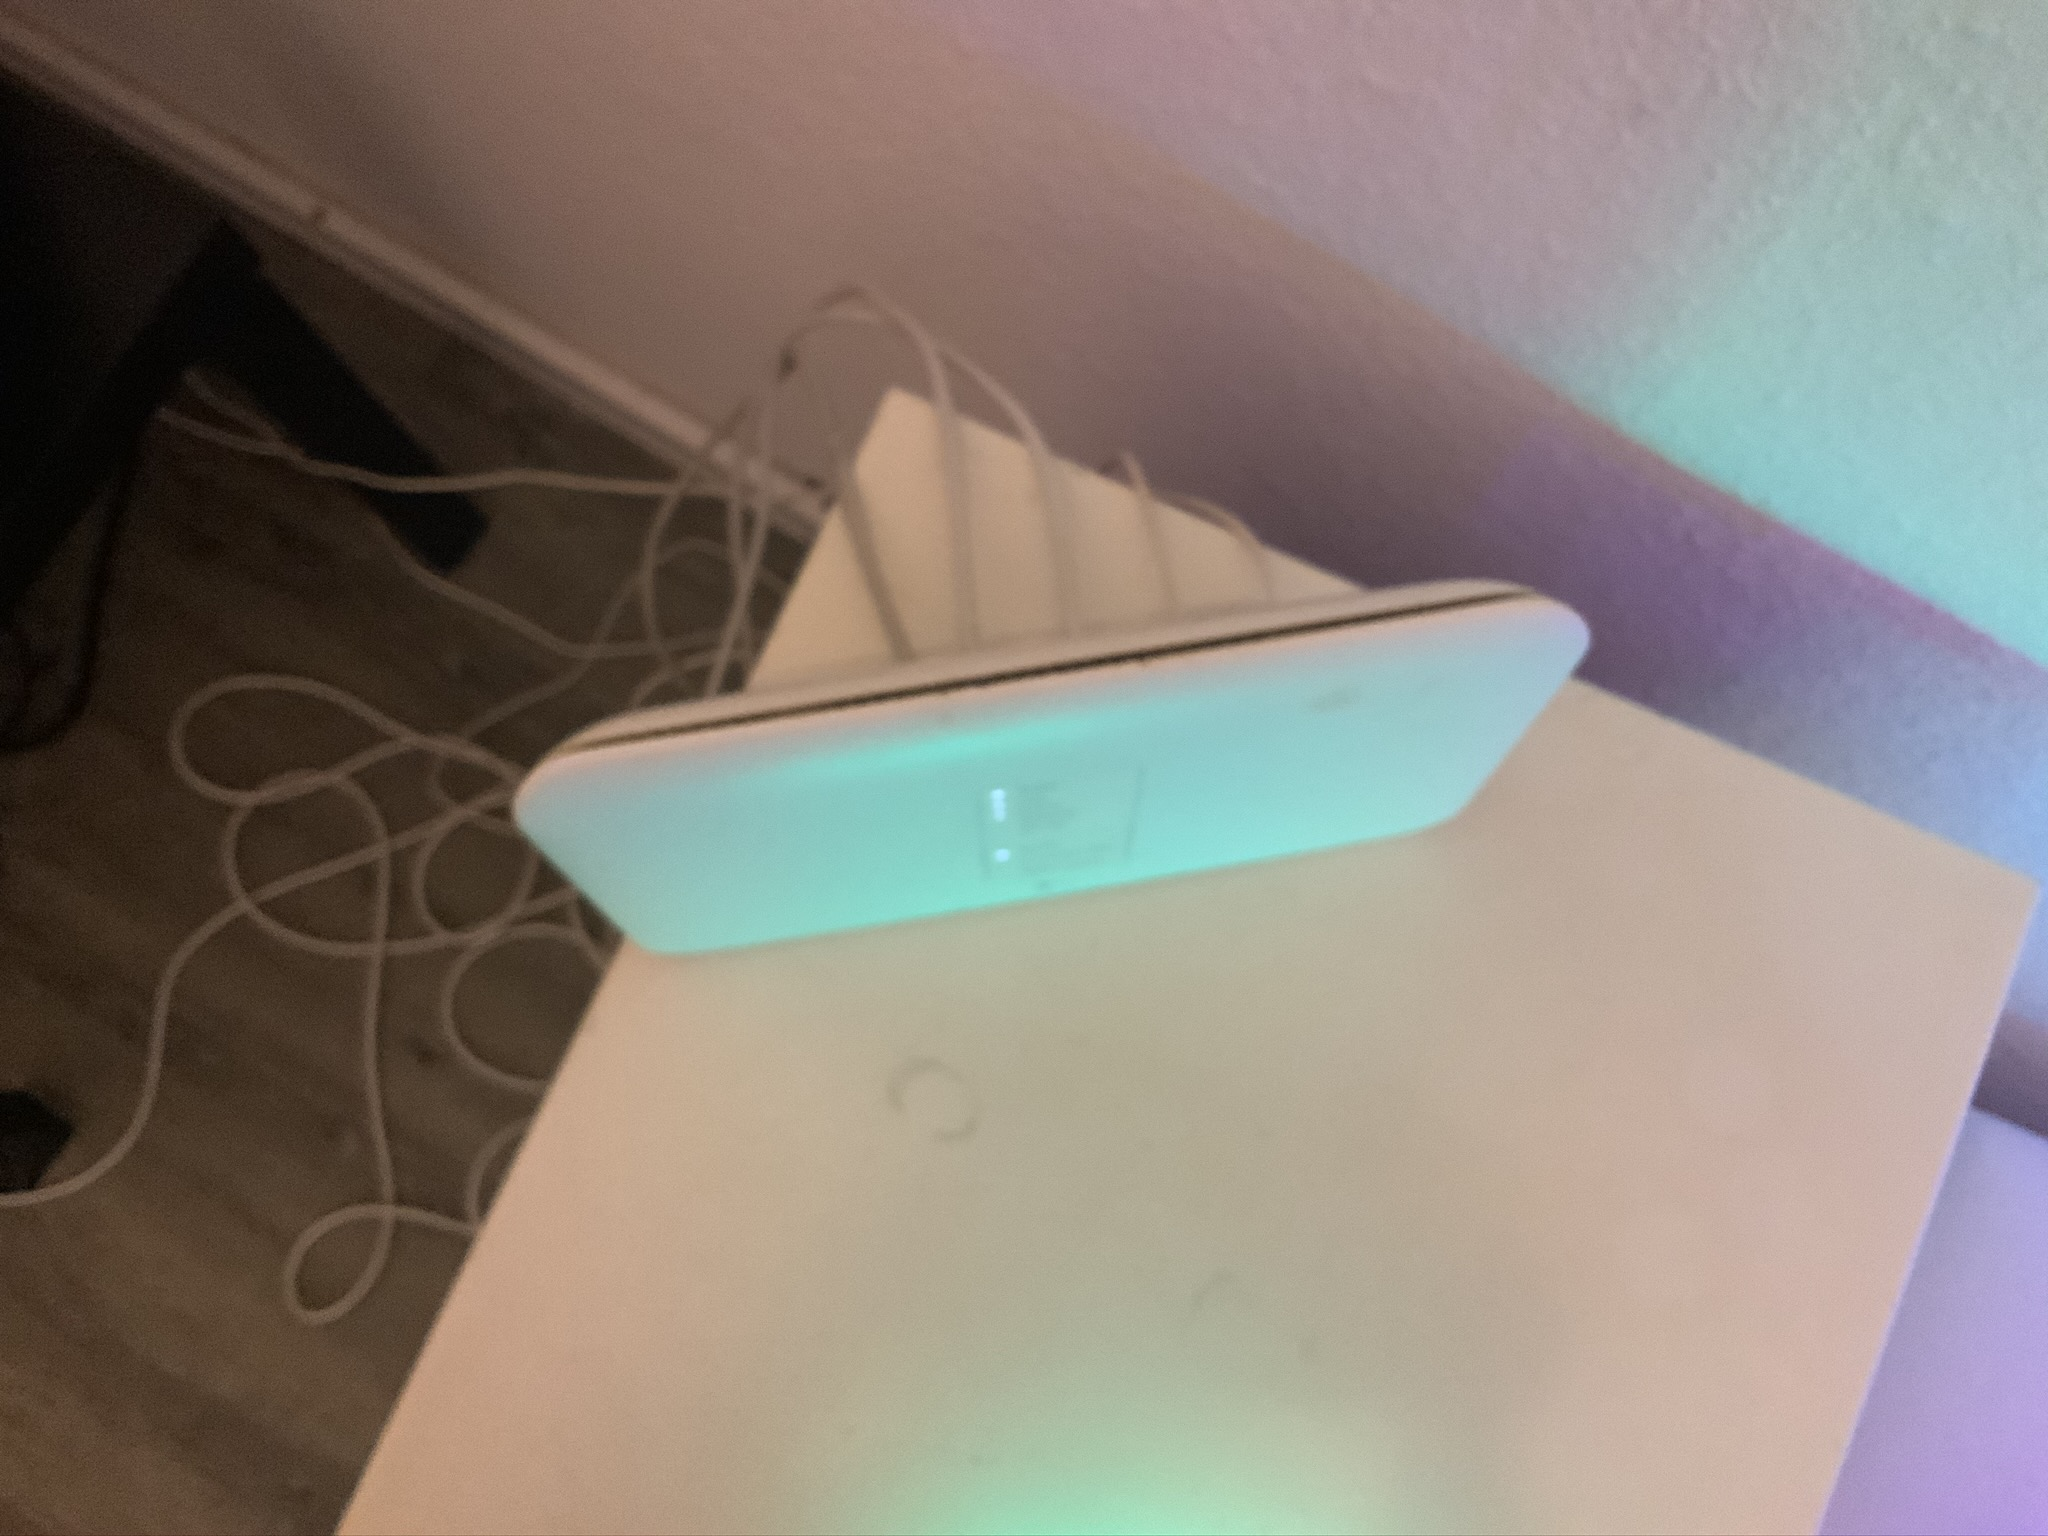router: (510, 578, 1598, 955)
